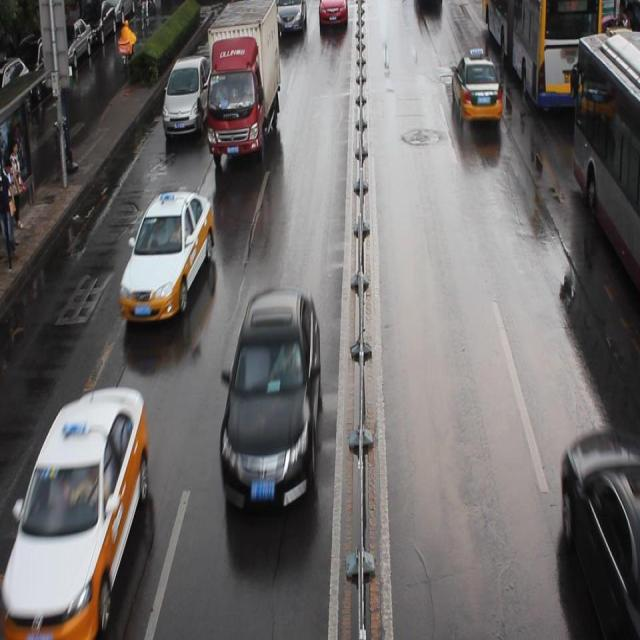bus: (206, 1, 280, 153)
car: (0, 386, 150, 640), (217, 286, 322, 519), (560, 429, 640, 640), (118, 189, 215, 323), (162, 54, 212, 132), (449, 53, 503, 122), (235, 1, 270, 29), (275, 1, 306, 31), (318, 1, 348, 27)
van: (572, 27, 640, 294), (479, 1, 602, 110)
